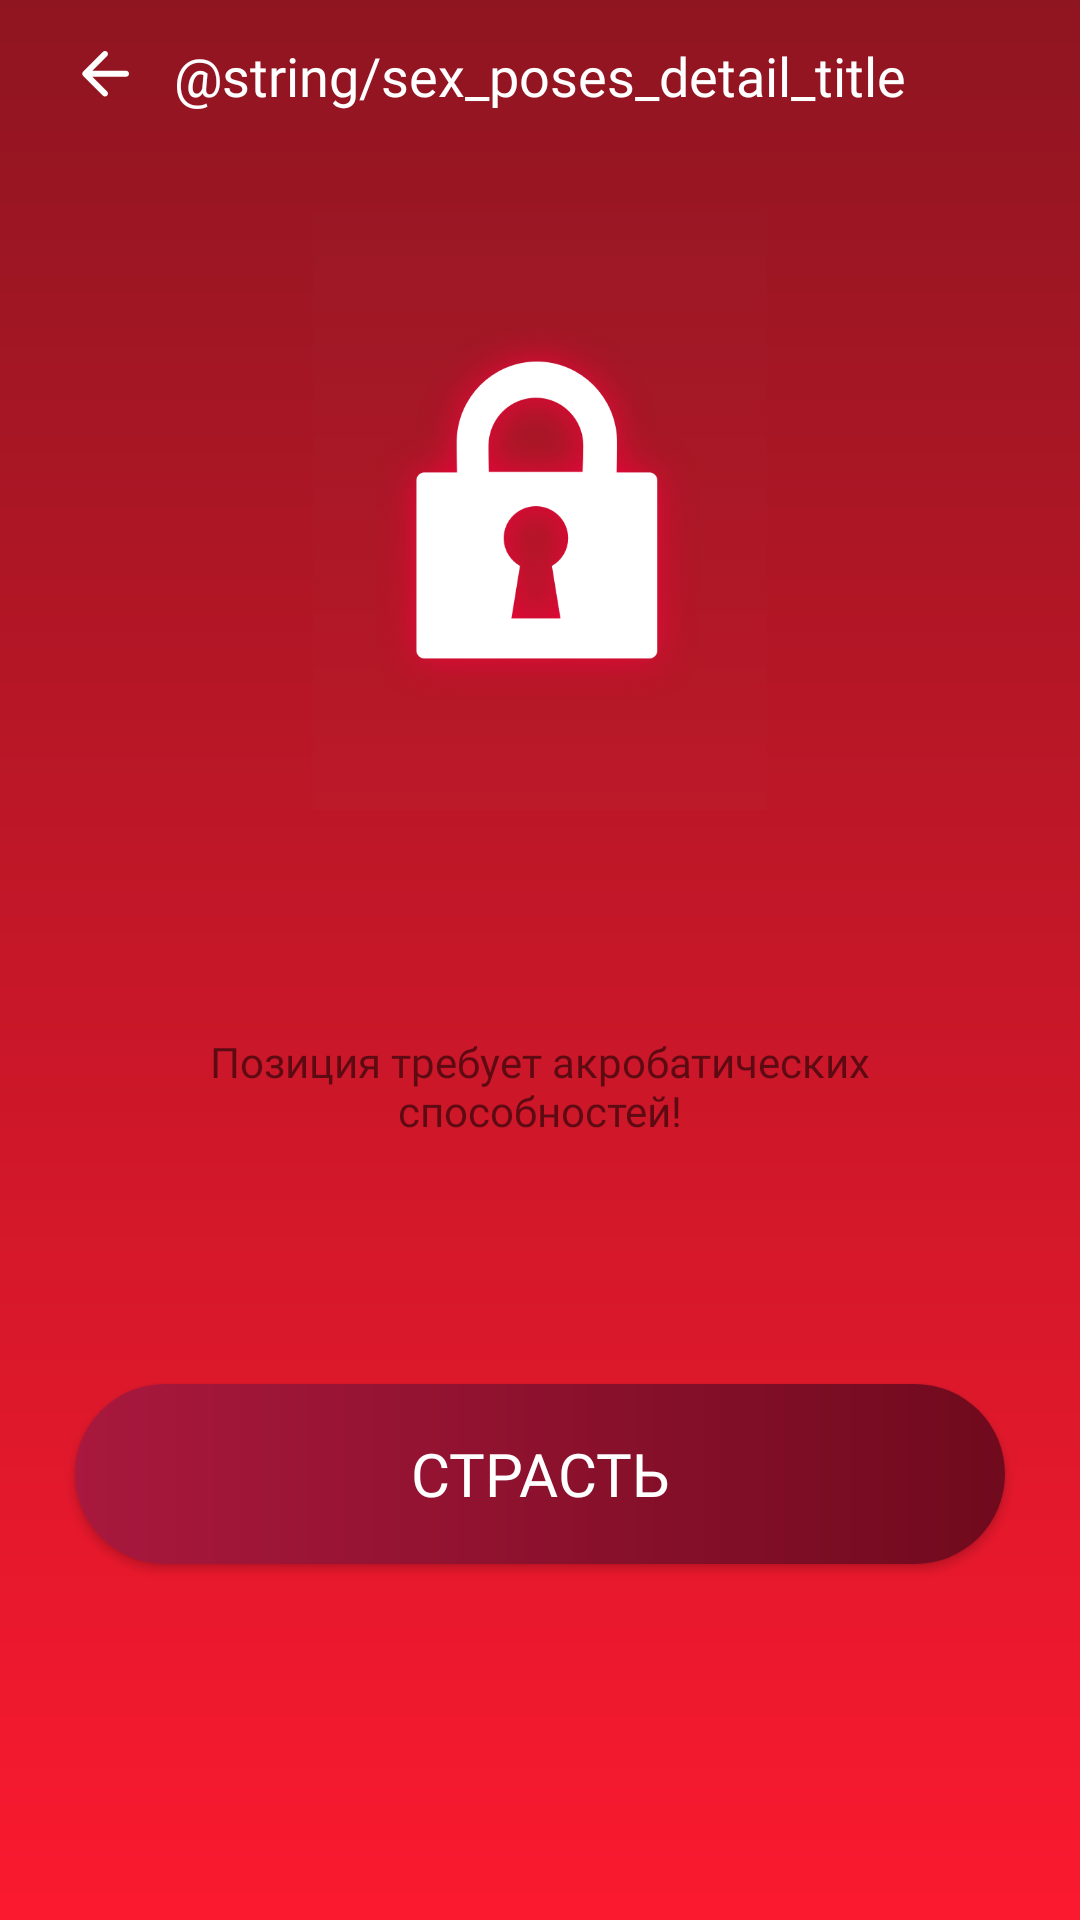

Point at icon controls on the screen. Image size 1080×1920, points as point (x, y).
arrow left: point (105, 74)
